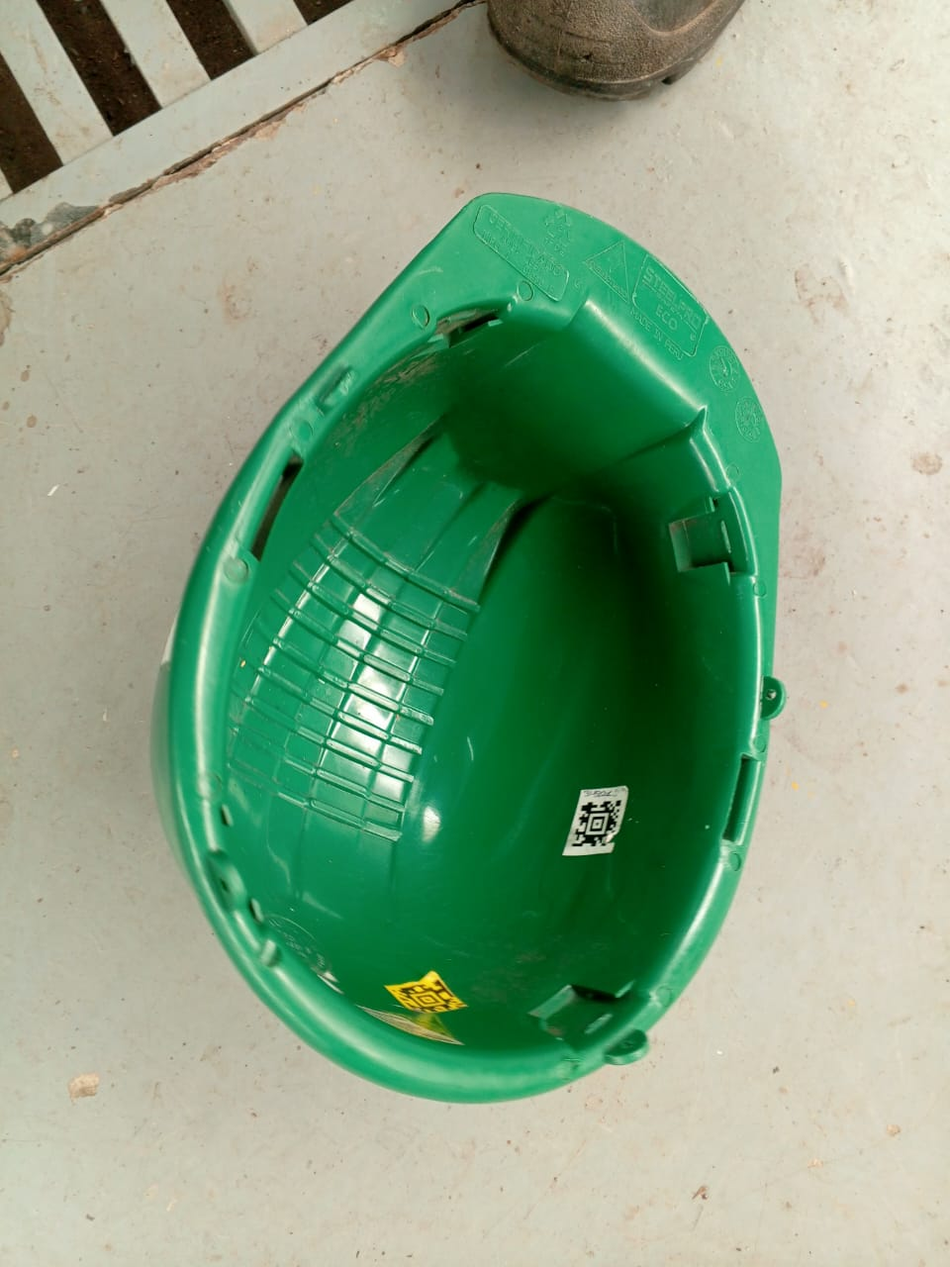Plastico: (154, 194, 786, 1106)
